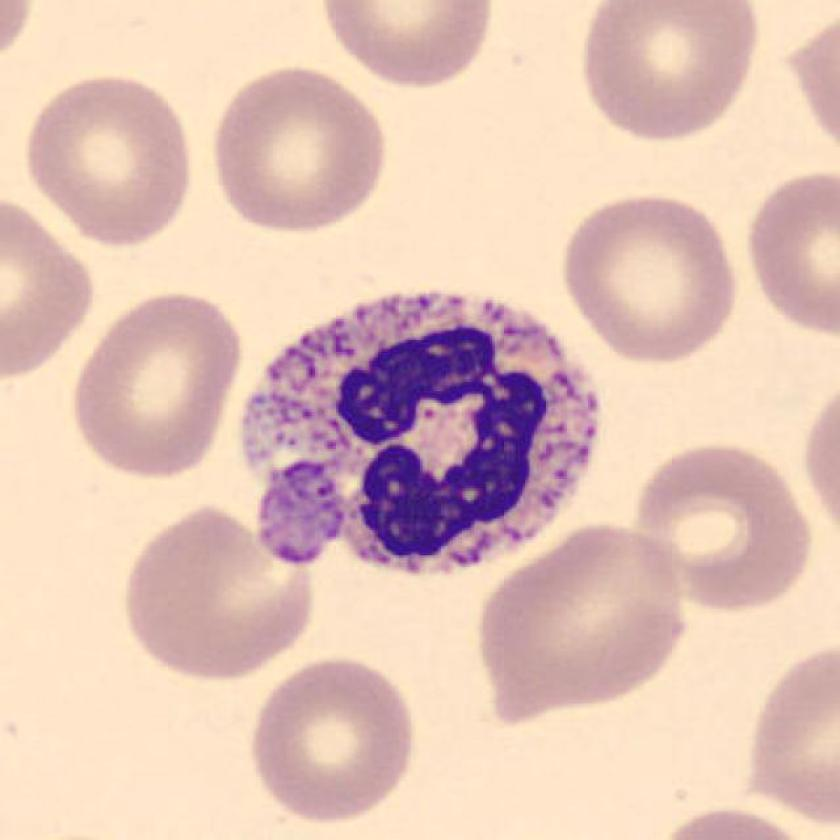neutrophil: (254, 292, 592, 576)
